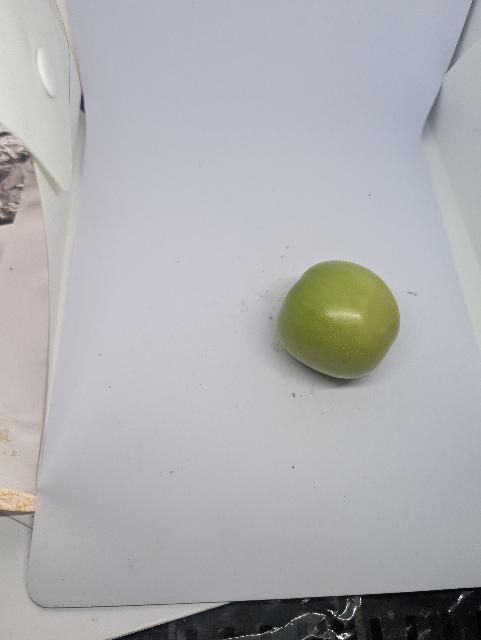green: (275, 257, 407, 381)
